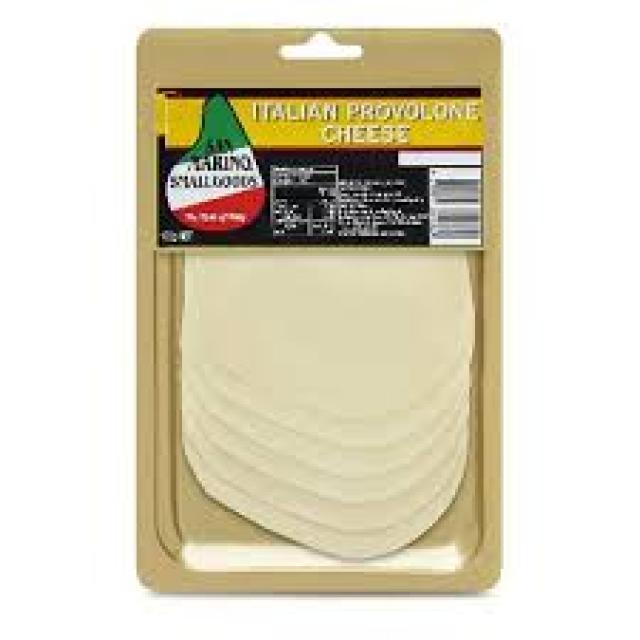cheese: (176, 251, 474, 564)
